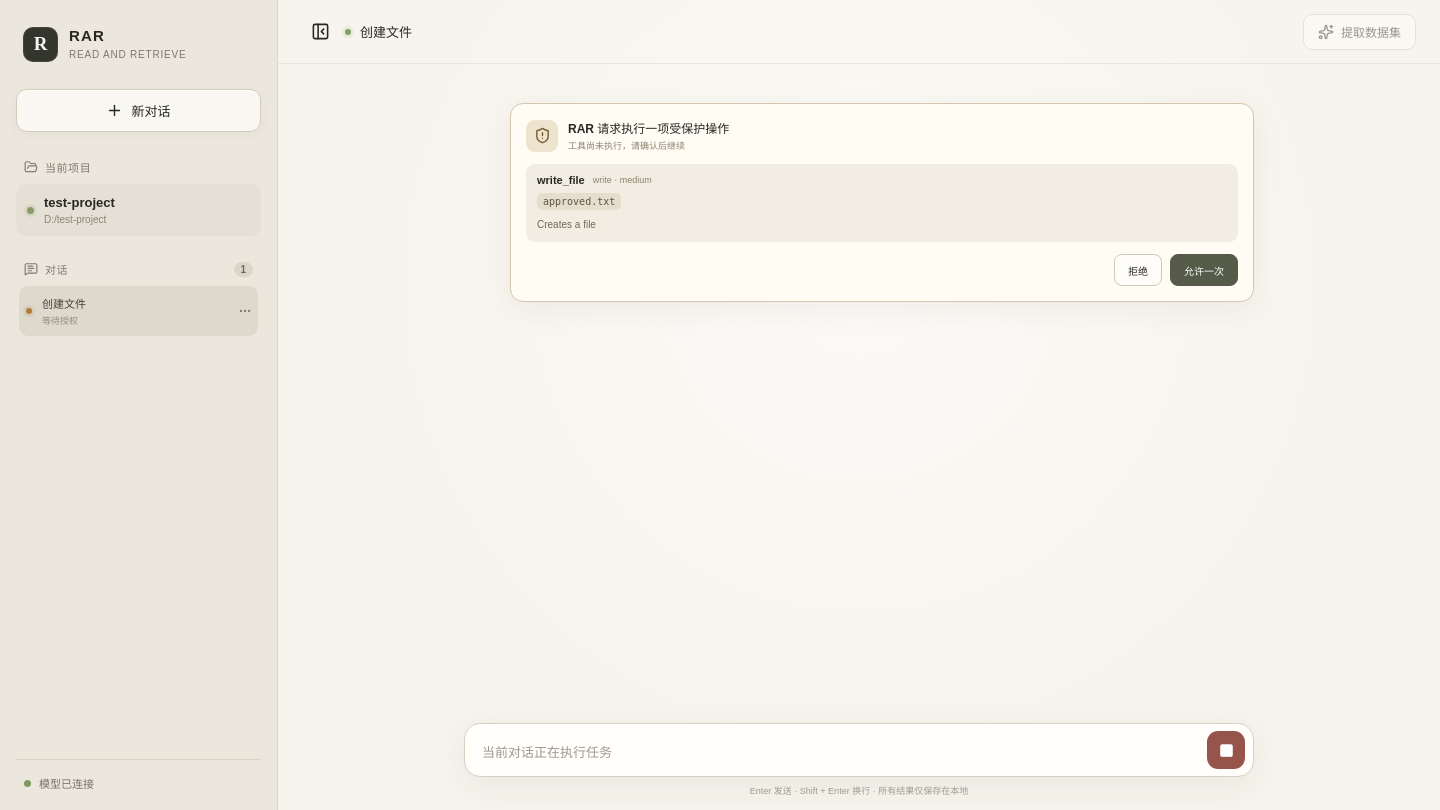
Test: App chat navigation › restores a pending approval and resumes the same run
Expected: the text "RAR 请求执行一项受保护操作" is shown, [568,119,729,136]
Expected: the text "approved.txt" is shown, [537,193,621,210]
Click the button "允许一次" at (1204, 270), box [1170,254,1238,286]
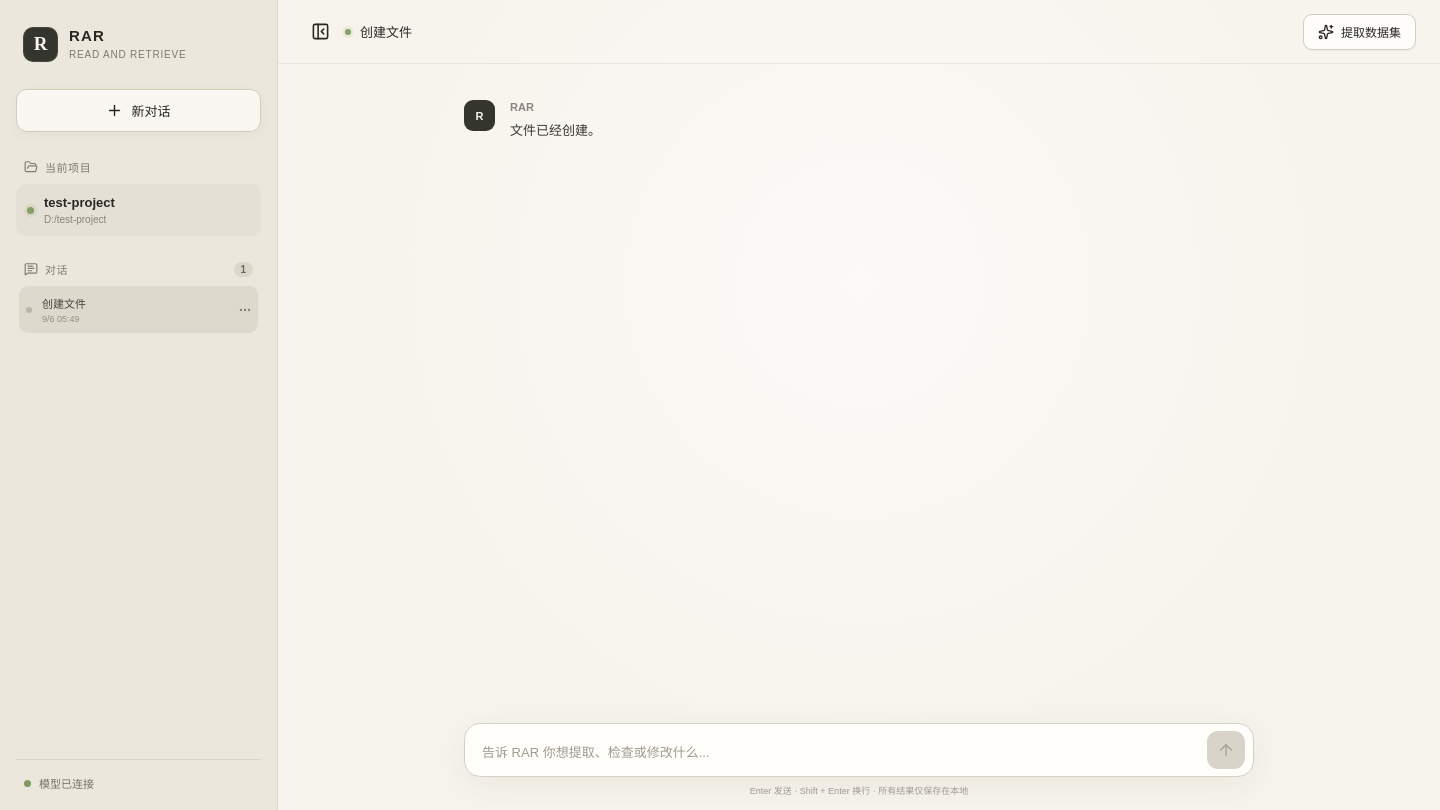
Expected: the text "文件已经创建。" is shown, [510,123,601,138]
Expected: the text "RAR 请求执行一项受保护操作" is gone
